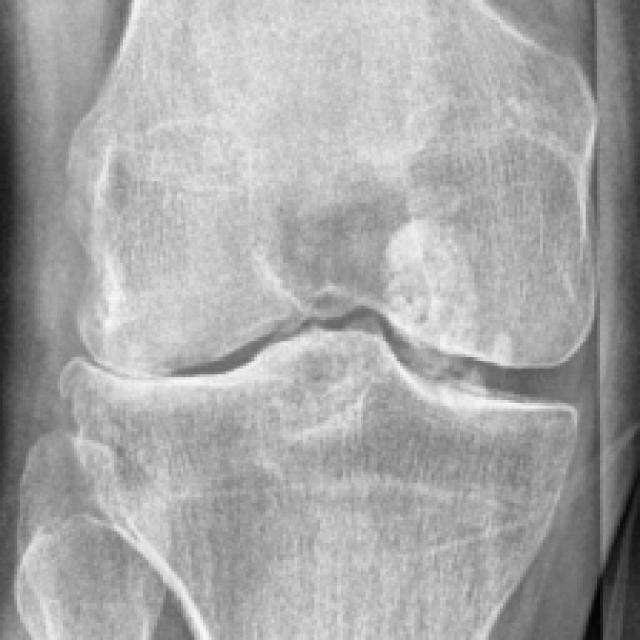femur: (66, 0, 597, 378)
tibia: (58, 330, 578, 640)
